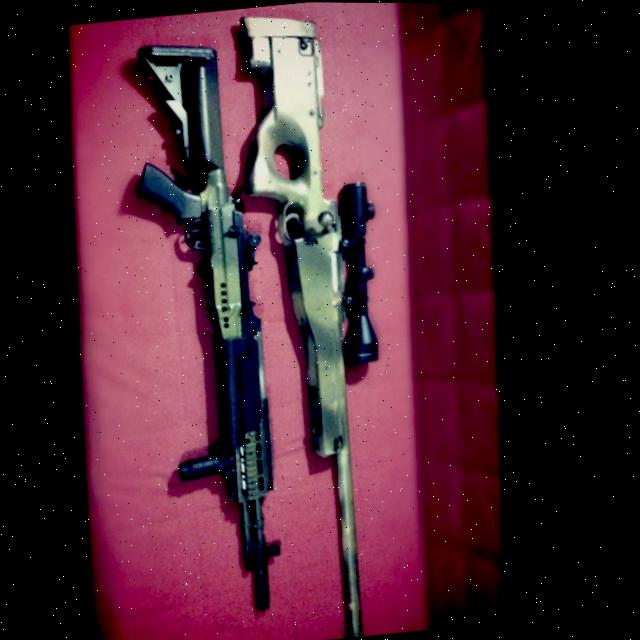firearm: (203, 2, 432, 640), (99, 30, 324, 623)
